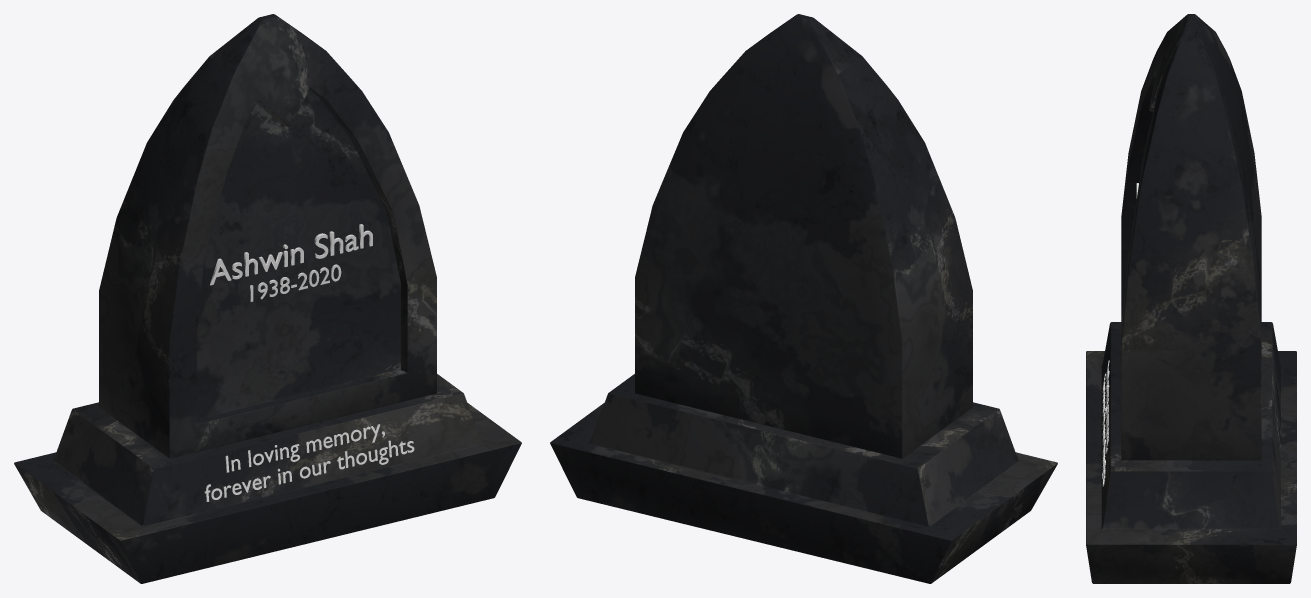
Rendered from Tombstones.glb.
3 renders of one model, left to right at view 1: azimuth 30°, elevation 25°; view 2: azimuth 150°, elevation 25°; view 3: azimuth 270°, elevation 25°, orthographic.
Visible parts, largest first — view 1: round-tombstone, Text.002, Text, Text.001; view 2: round-tombstone; view 3: round-tombstone, Text.002.
Boxes of the visible parts, <box> form: round-tombstone: <box>14,14,521,583</box>; Text.002: <box>204,424,414,501</box>; Text: <box>210,224,372,285</box>; Text.001: <box>250,264,341,301</box>; round-tombstone: <box>550,14,1057,583</box>; round-tombstone: <box>1086,14,1296,583</box>; Text.002: <box>1102,360,1109,486</box>.
Size of the model in its own units: 0.9615 by 1.12 by 0.4425.
Materials: 1 (1 with a texture image).
